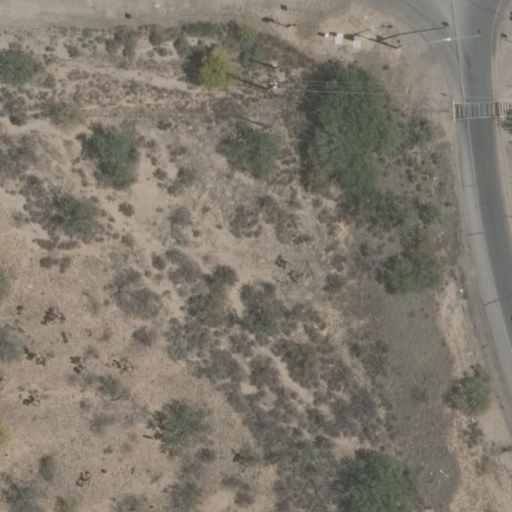DT: (257, 72, 285, 98)
